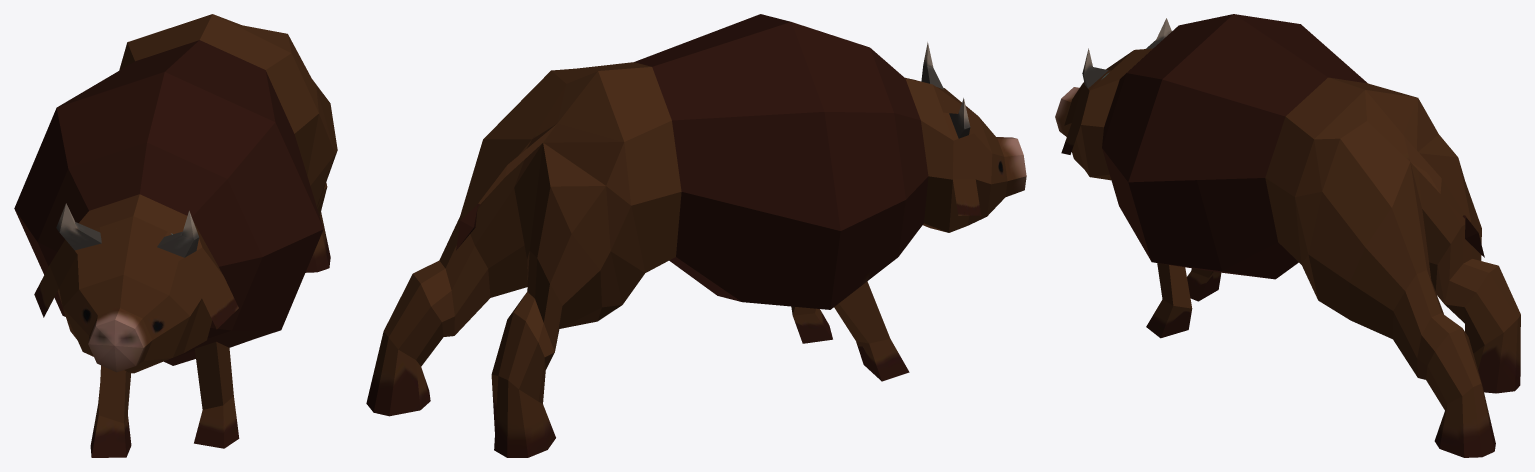
Rendered from bison.gltf.
The picture shows the model from 3 angles, left to right: view 1: azimuth 30°, elevation 25°; view 2: azimuth 150°, elevation 25°; view 3: azimuth 270°, elevation 25°; orthographic projection. The views are drawn at different scales.
Visible parts, largest first — view 1: bison; view 2: bison; view 3: bison.
Boxes of the visible parts, x1,y1,x2,y2 form: bison: [14, 14, 337, 457]; bison: [366, 14, 1026, 457]; bison: [1055, 14, 1520, 457].
Size of the model in its own units: 3.28 by 2.46 by 3.27.
1 material, 1 textured.
